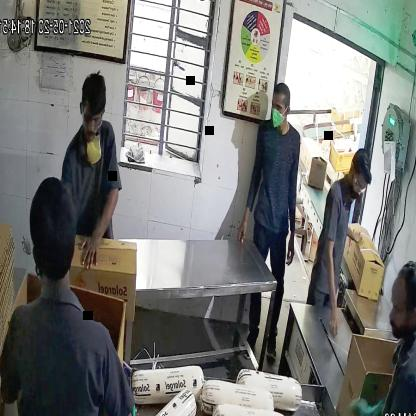goggles: (350, 174, 370, 200)
